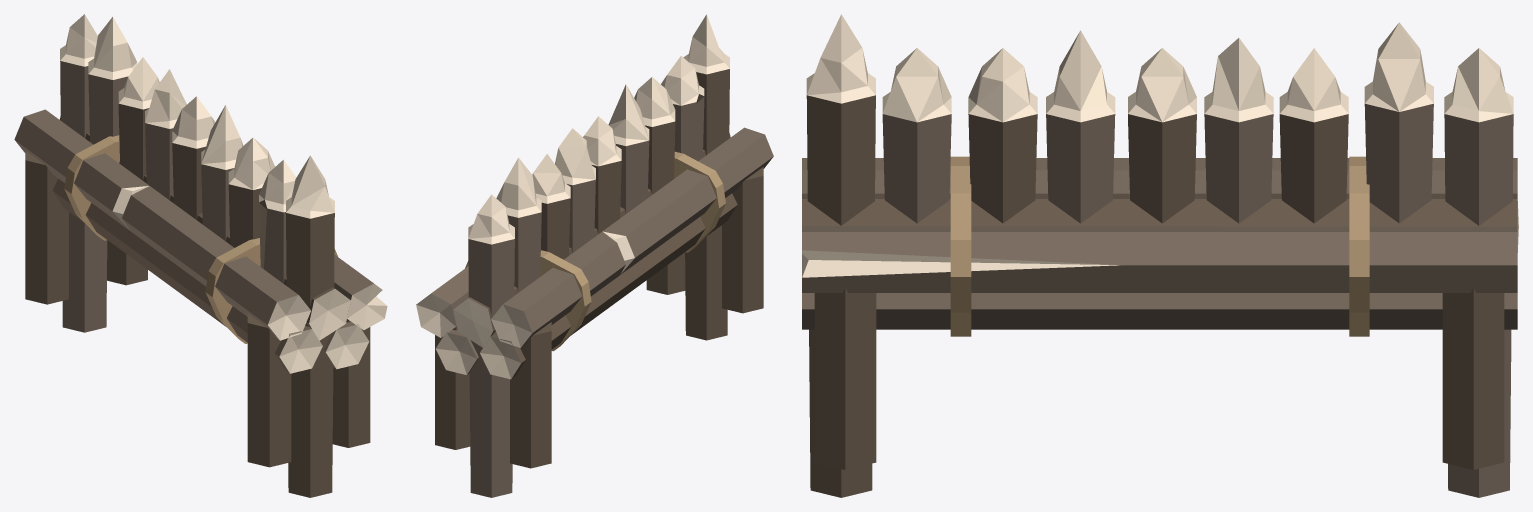
Rendered from _BRIDGE_UP_01.fbx.
3 renders of one model, left to right at view 1: azimuth 30°, elevation 25°; view 2: azimuth 150°, elevation 25°; view 3: azimuth 270°, elevation 25°, orthographic. The views are drawn at different scales.
Visible parts, largest first — view 1: BRIDGE_UP_01; view 2: BRIDGE_UP_01; view 3: BRIDGE_UP_01.
Boxes of the visible parts, x1,y1,x2,y2 form: BRIDGE_UP_01: (14, 14, 387, 497); BRIDGE_UP_01: (416, 14, 773, 497); BRIDGE_UP_01: (802, 14, 1518, 497).
Bounding box in the file's own units: 166 × 403 × 559.
